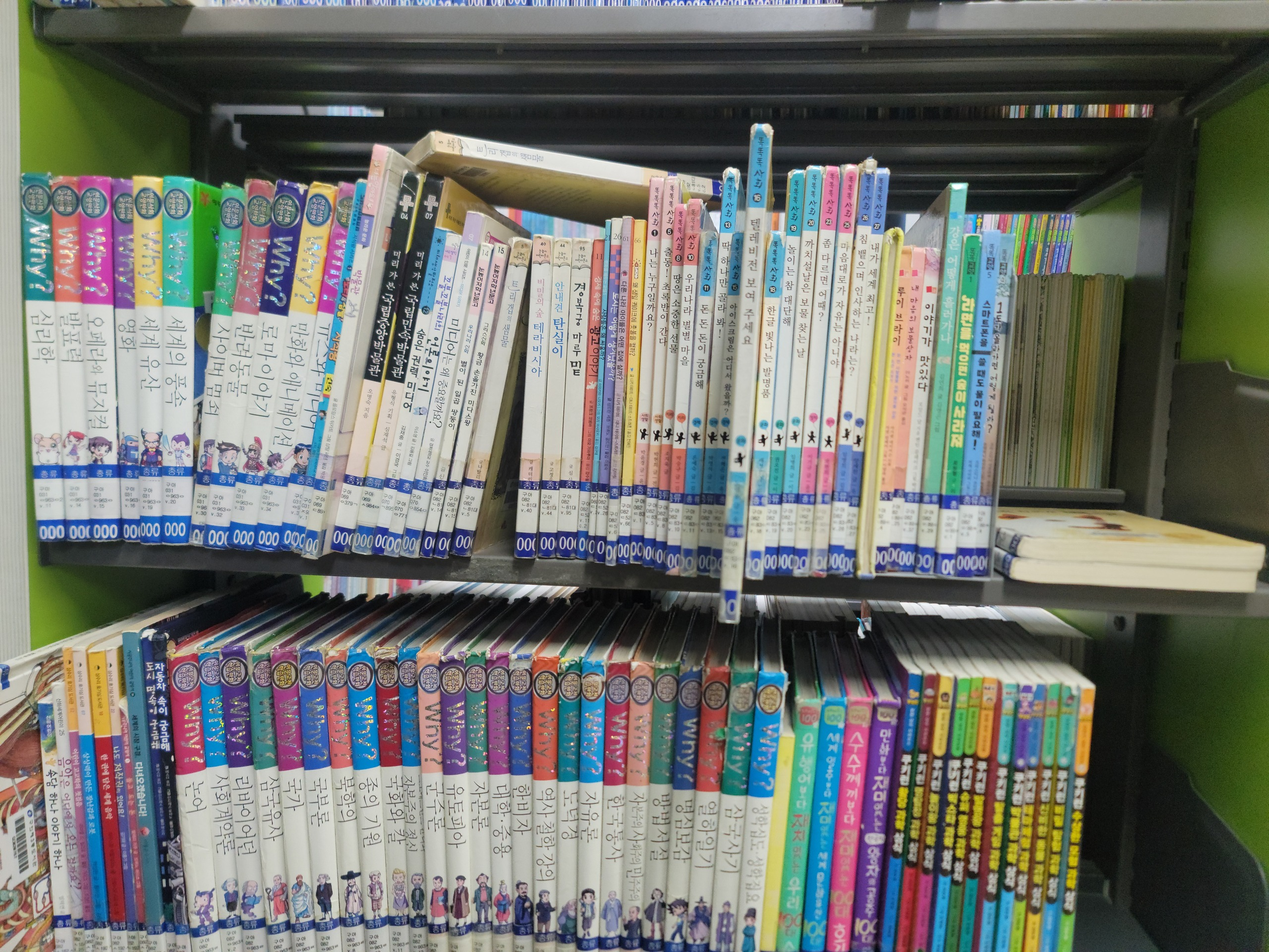book-spine: (350, 169, 444, 555), (329, 169, 422, 555), (302, 145, 388, 560), (252, 182, 337, 551), (228, 178, 307, 552), (400, 210, 485, 557), (292, 175, 368, 554), (375, 231, 463, 557), (277, 186, 355, 551), (450, 237, 534, 558), (203, 181, 276, 548), (370, 225, 448, 558), (721, 123, 772, 599), (419, 240, 494, 556), (433, 244, 508, 558), (188, 180, 247, 548), (825, 159, 876, 576), (809, 163, 859, 579), (915, 186, 967, 576), (792, 165, 840, 576), (776, 167, 823, 576), (841, 170, 888, 573), (761, 169, 805, 577), (18, 173, 65, 540), (694, 167, 736, 576), (953, 232, 1000, 576), (78, 177, 120, 542), (936, 235, 981, 574), (49, 178, 91, 540), (744, 227, 786, 581), (972, 231, 1015, 576), (858, 225, 900, 574), (898, 245, 941, 575), (869, 244, 912, 573), (677, 235, 718, 578), (641, 177, 676, 566), (664, 210, 701, 573), (513, 235, 554, 557), (886, 249, 926, 572), (652, 203, 687, 572), (628, 196, 662, 564), (708, 234, 744, 578), (556, 238, 593, 562), (162, 178, 194, 548), (536, 237, 572, 557), (133, 178, 163, 544), (110, 179, 140, 542), (617, 218, 646, 563), (594, 212, 622, 564), (574, 236, 604, 563), (605, 219, 632, 566), (585, 235, 611, 561)
